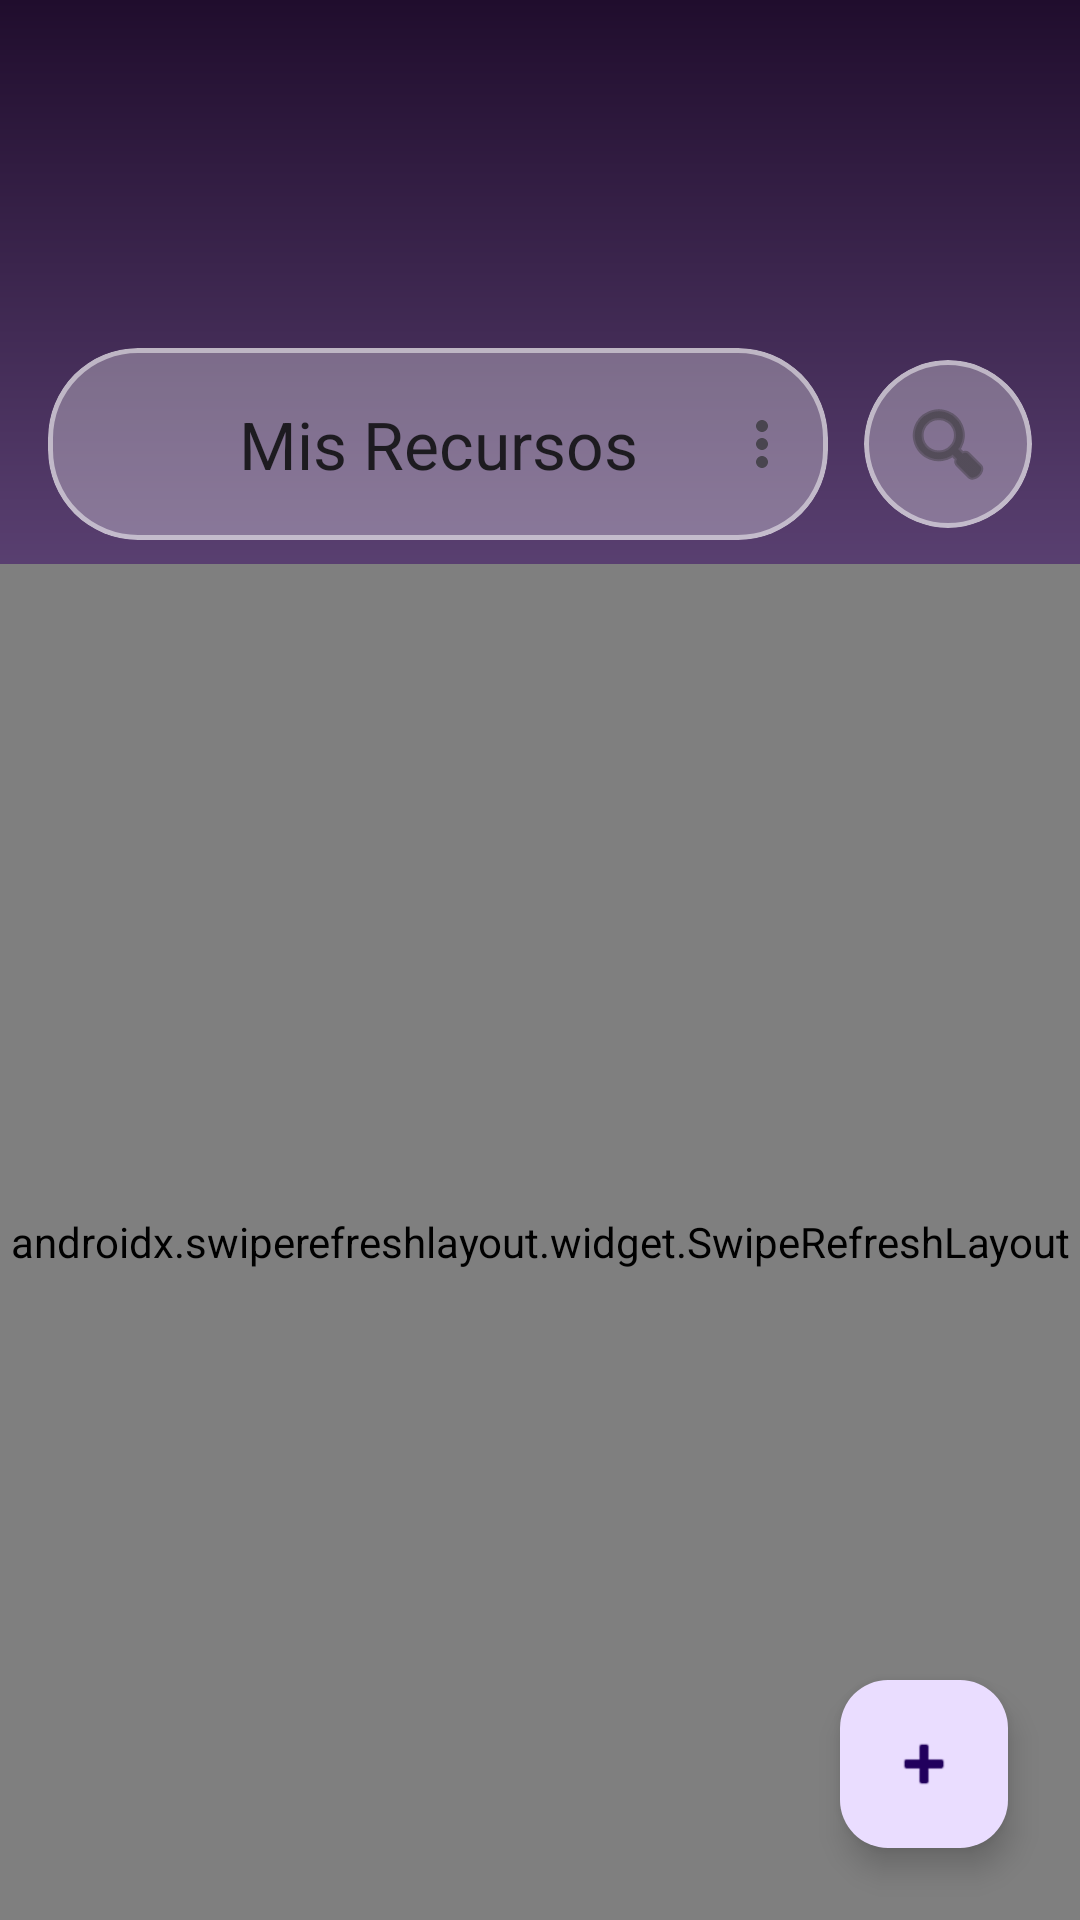

Named icons in this screenshot (1080*1920) and their centers, point (x, y):
Agregar recurso: point (924, 1764)
search: point (948, 444)
